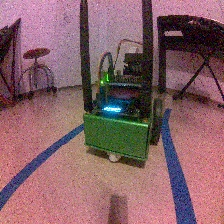rob: (82, 51, 163, 163)
